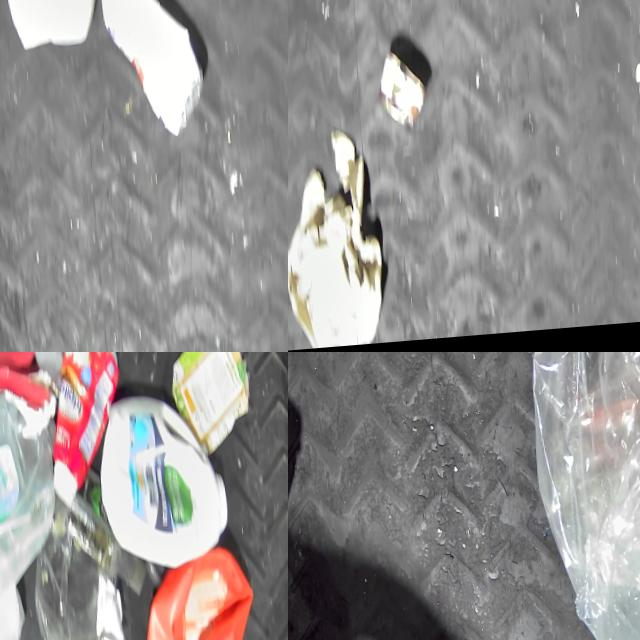can: (373, 53, 422, 132)
milk_jug: (95, 395, 231, 586), (0, 398, 58, 607), (0, 0, 95, 53)
non_white_jug: (42, 352, 125, 514), (134, 556, 256, 640)
